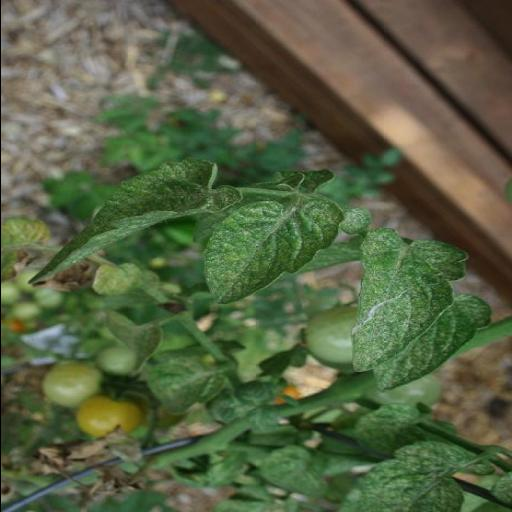disease_tomato: (26, 154, 222, 286), (346, 228, 472, 372), (201, 198, 347, 306)
